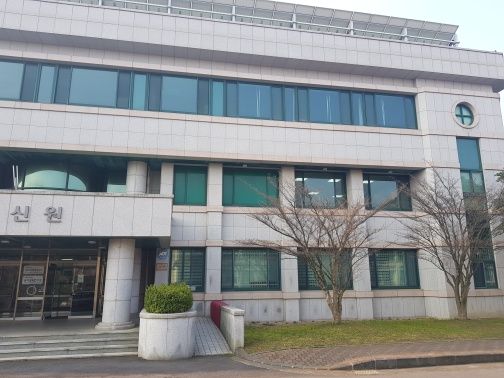Information Telecommunication Center: (2, 3, 497, 320), (11, 187, 74, 236)
